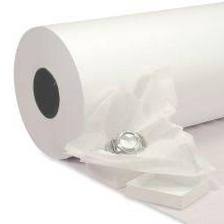tissue: (8, 0, 224, 165), (57, 60, 224, 186), (119, 159, 220, 213)
